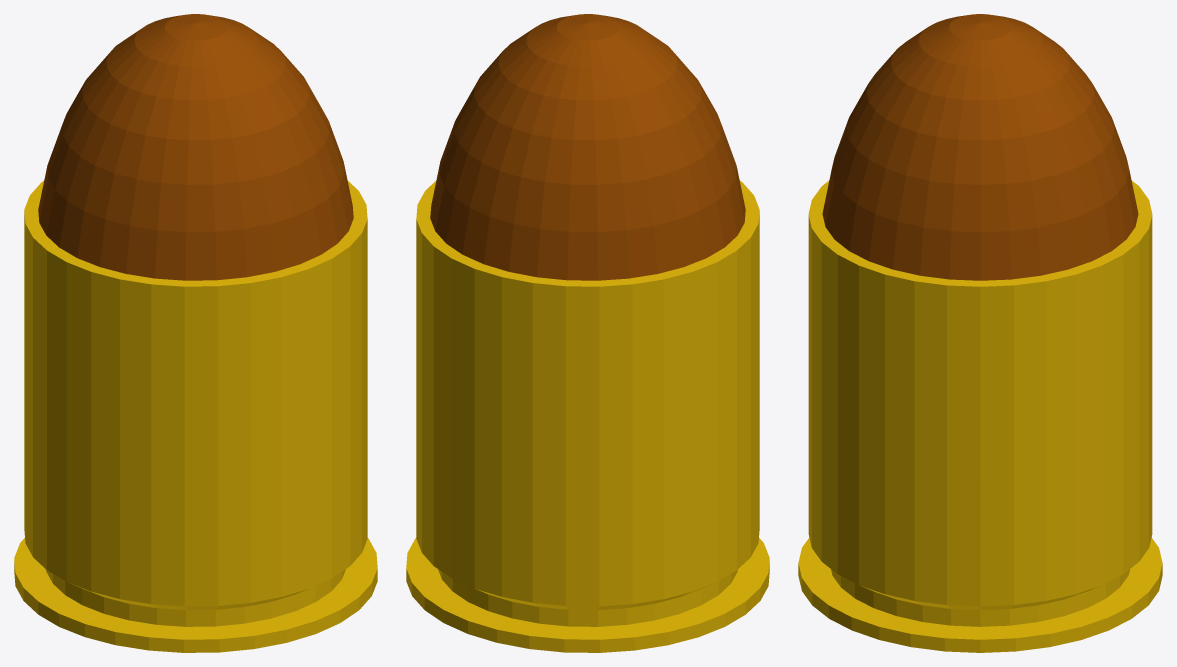
Rendered from Bullet.dae.
The picture shows the model from 3 angles, left to right: view 1: azimuth 30°, elevation 25°; view 2: azimuth 150°, elevation 25°; view 3: azimuth 270°, elevation 25°; orthographic projection.
Parts seen in each view (by area): view 1: Cylinder; view 2: Cylinder; view 3: Cylinder.
Part boxes in pixels (<box>): Cylinder: <box>14,14,377,652</box>; Cylinder: <box>406,14,769,652</box>; Cylinder: <box>798,14,1162,652</box>.
Size of the model in its own units: 2 by 2 by 3.35.
